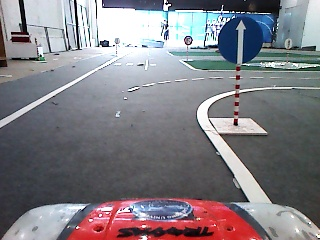straight: (218, 17, 264, 65)
